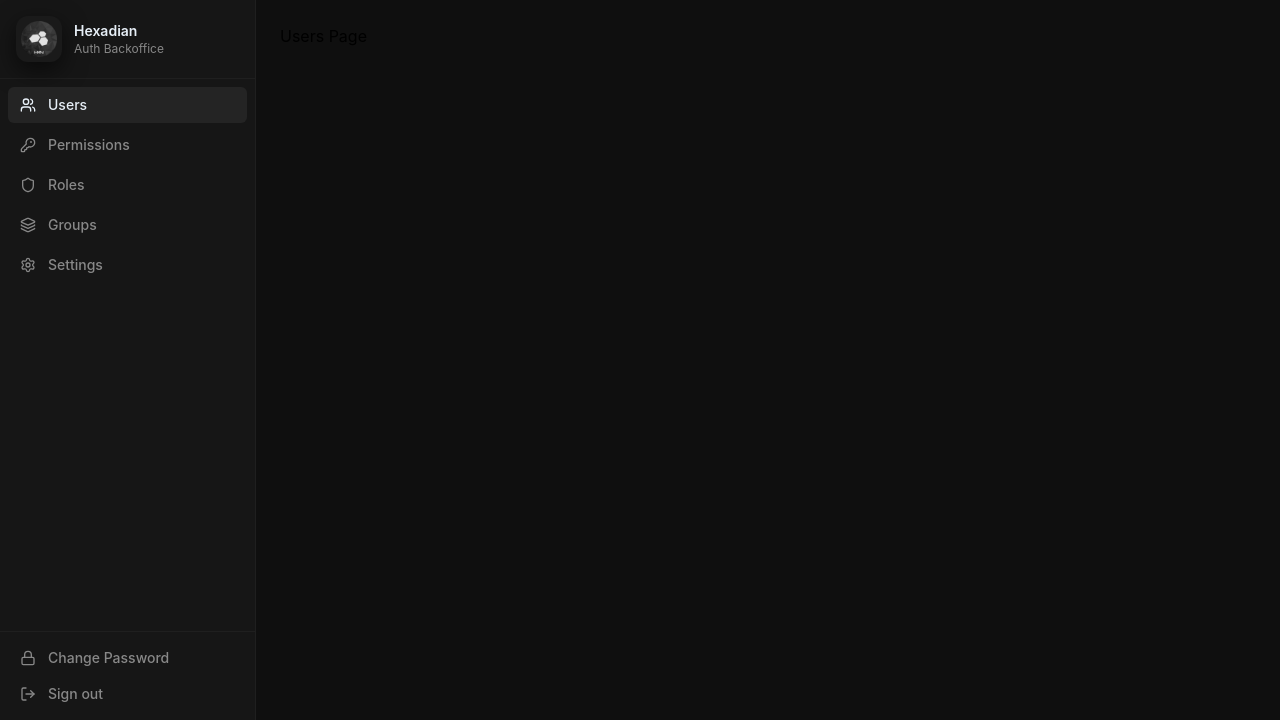
ChangePasswordDialog › shows validation error for short new password
Click the button "Change Password": point(128, 658) [8,640,247,676]
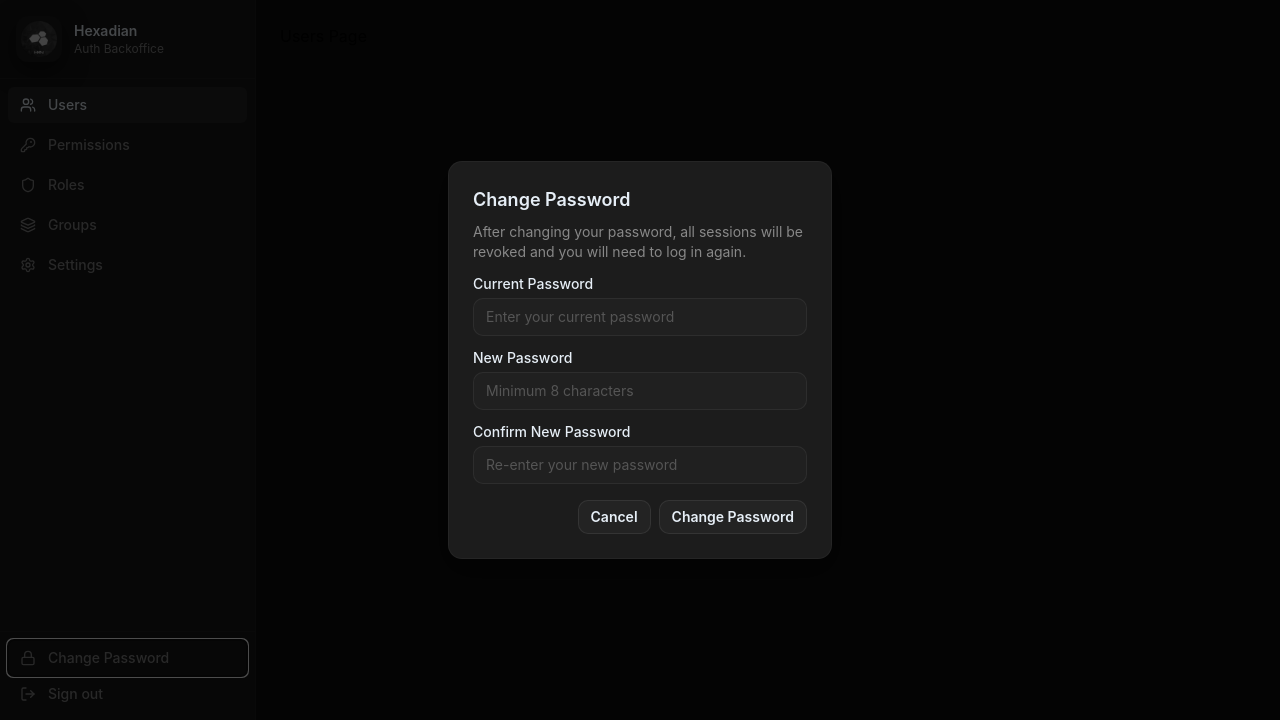
In the password field labelled "Current Password": point(640, 317) [473,298,807,336], type "oldpass"
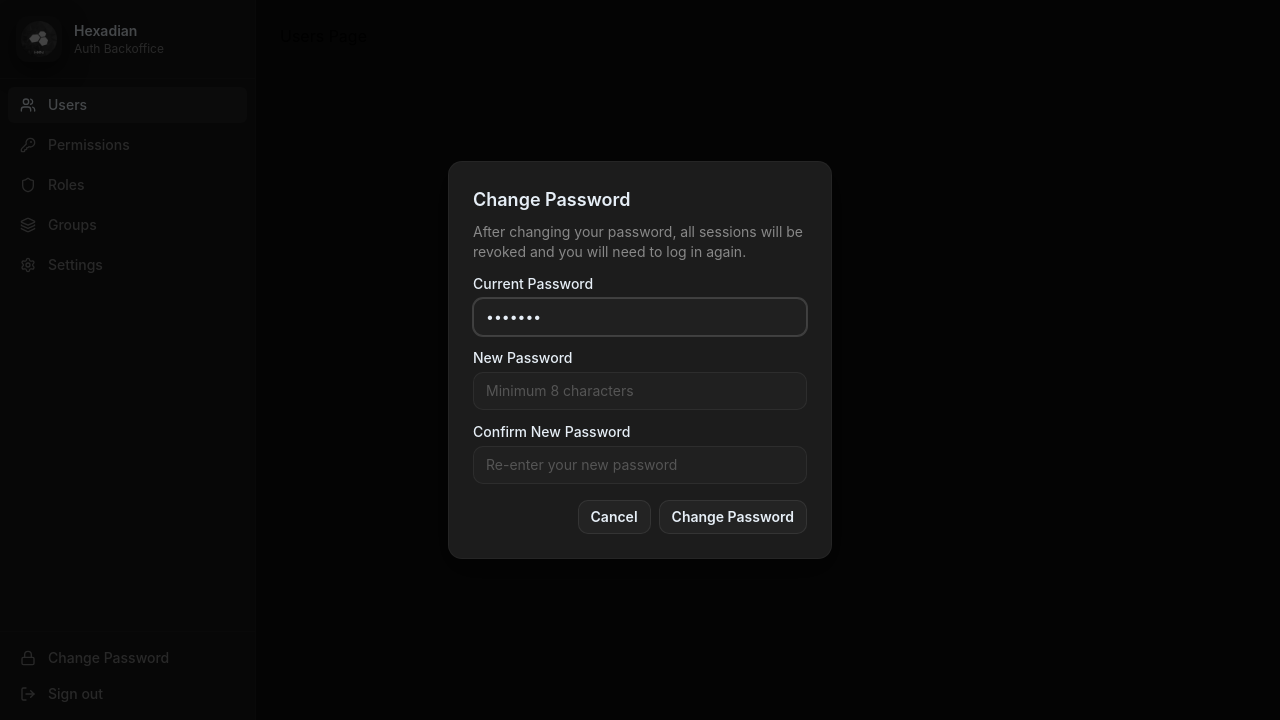
In the password field labelled "New Password": point(640, 391) [473,372,807,410], type "short"
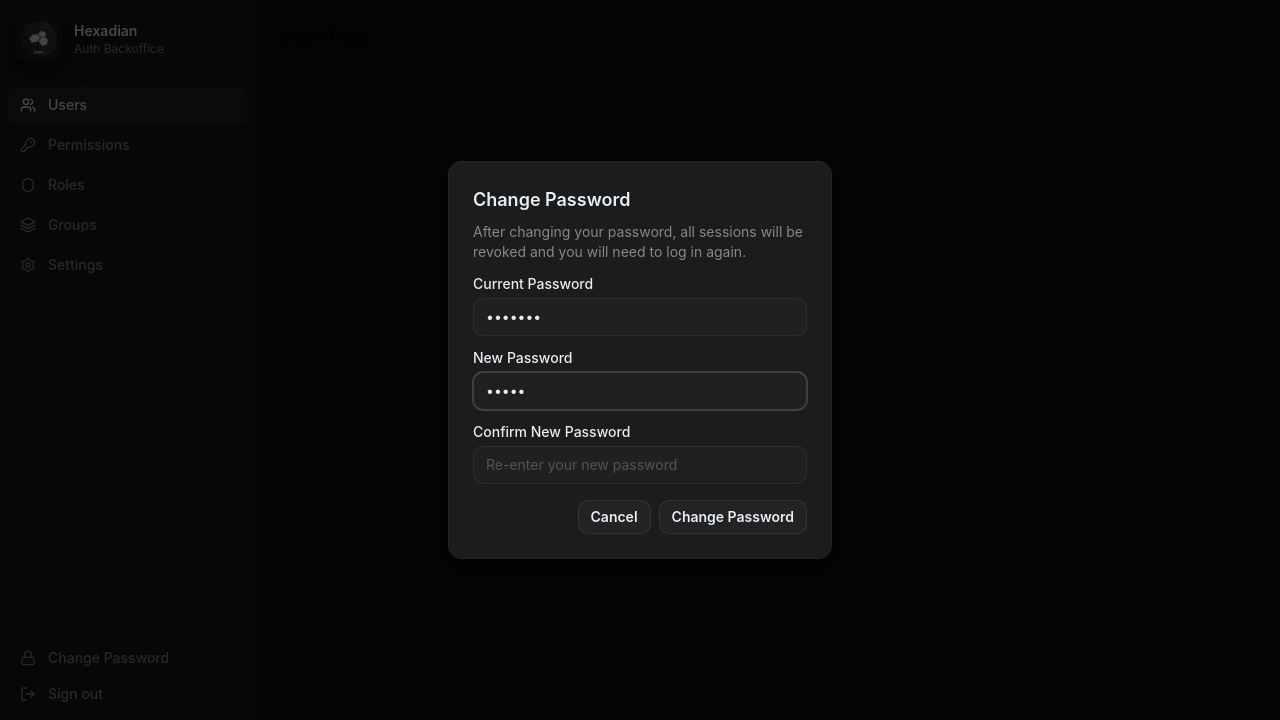
In the password field labelled "Confirm New Password": point(640, 465) [473,446,807,484], type "short"
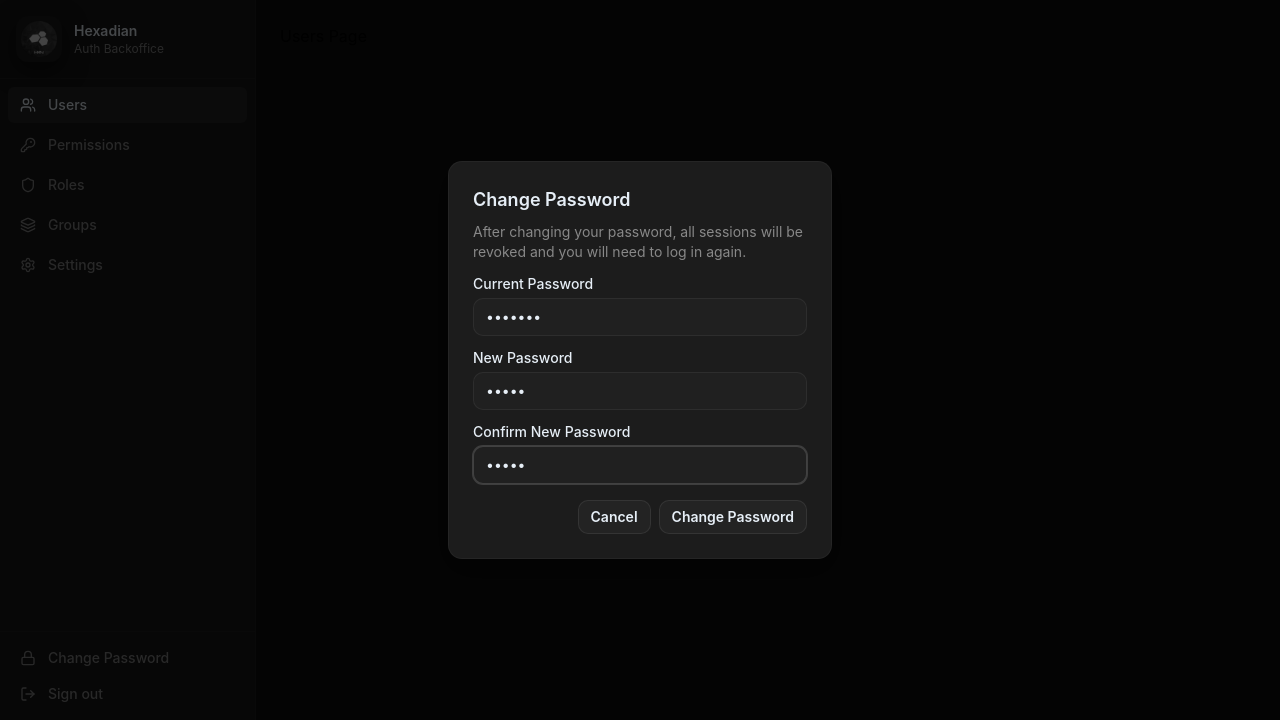
Click the button "Change Password": point(733, 517) [659,500,807,534]
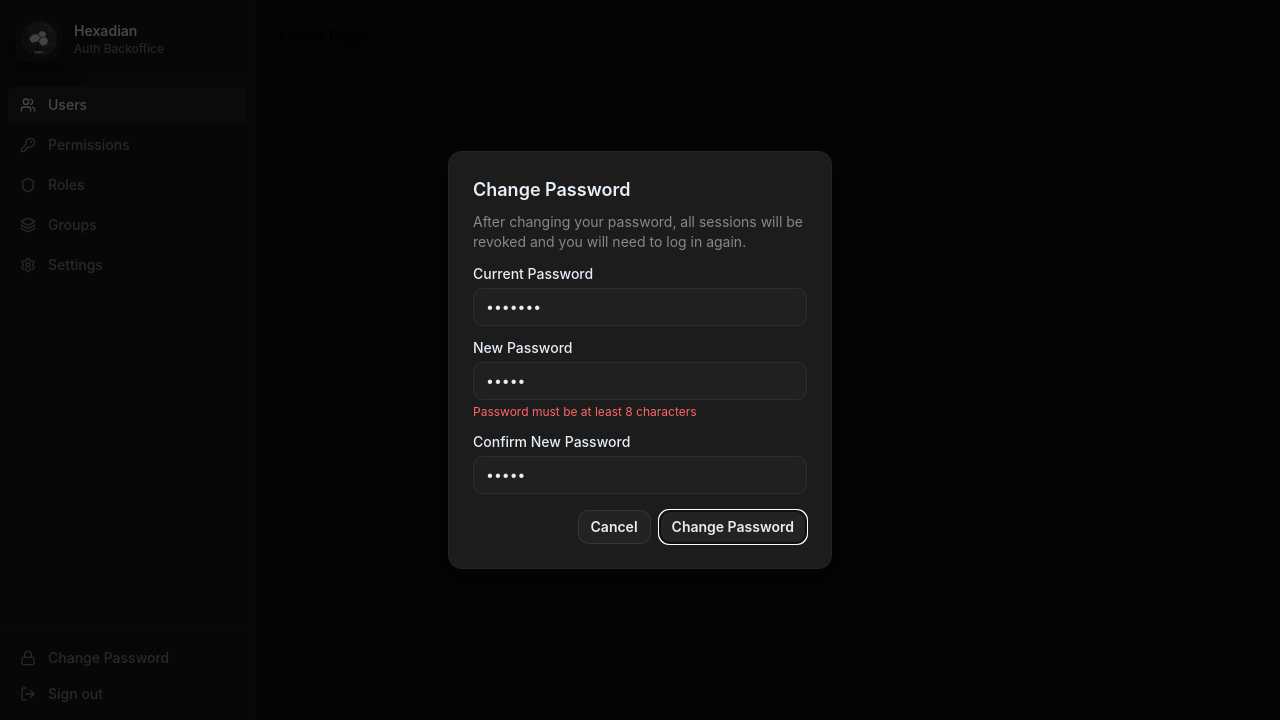
Check: the text "Password must be at least 8 characters" is shown, box [473,404,697,419]
